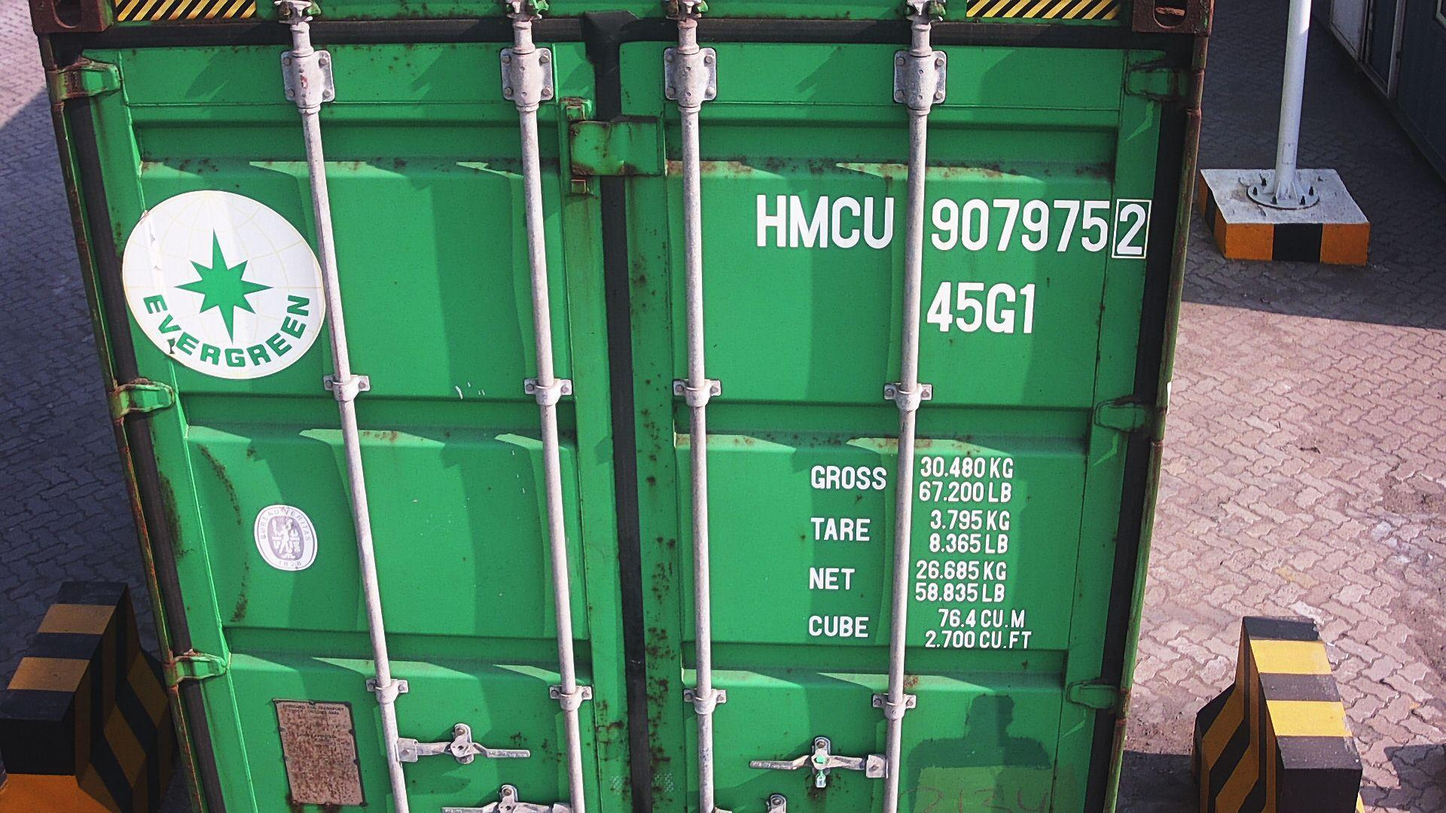container-numbers: (752, 188, 1158, 260), (925, 279, 1046, 342)
